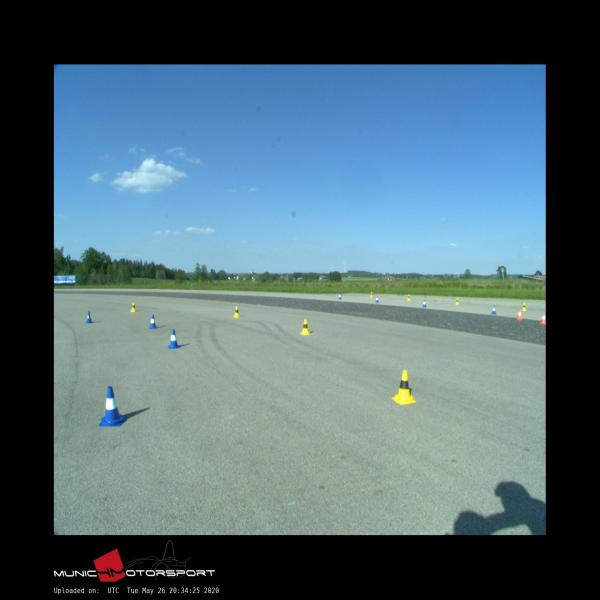blue_cone: (99, 386, 125, 427), (168, 329, 180, 348), (149, 314, 157, 329), (85, 312, 93, 323), (491, 306, 497, 314), (422, 300, 427, 308), (338, 293, 342, 299), (374, 296, 378, 302)
orange_cone: (516, 310, 523, 320), (540, 313, 546, 324)
yellow_cone: (392, 370, 416, 404), (300, 319, 310, 335), (233, 306, 240, 317), (130, 303, 137, 312), (522, 302, 526, 311), (407, 294, 411, 300), (456, 297, 459, 305), (370, 292, 373, 297)
